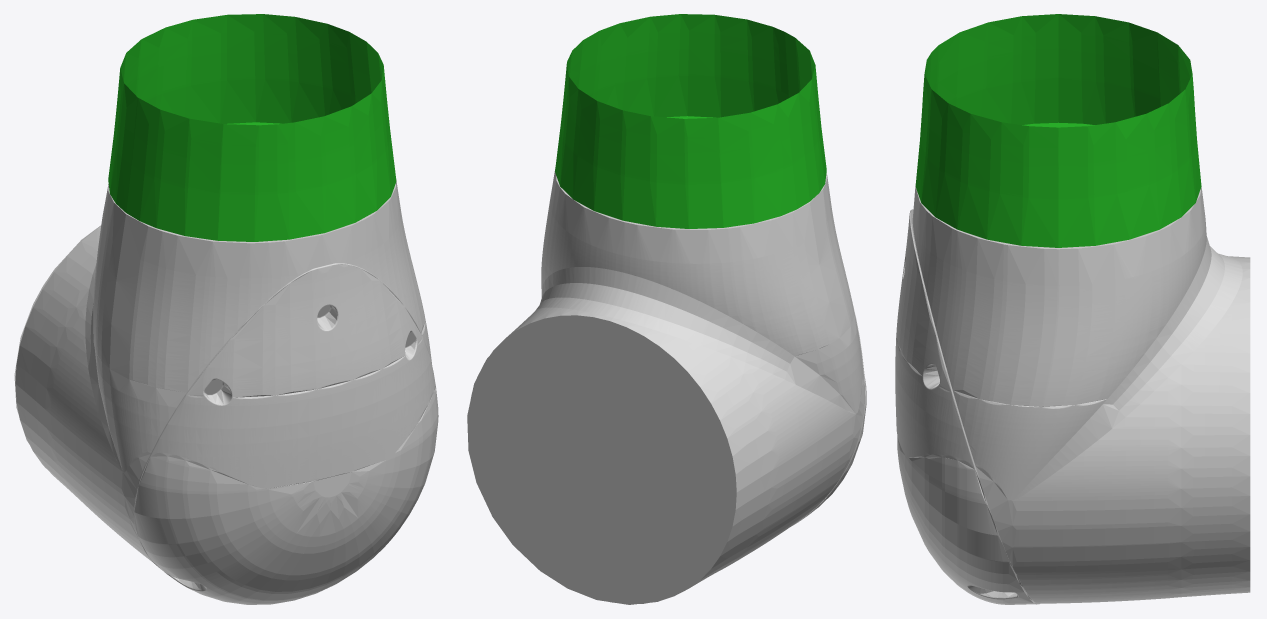
The picture shows the model from 3 angles, left to right: view 1: azimuth 30°, elevation 25°; view 2: azimuth 150°, elevation 25°; view 3: azimuth 270°, elevation 25°; orthographic projection. The views are drawn at different scales.
Parts seen in each view (by area): view 1: node; view 2: node; view 3: node.
Part boxes in pixels (bbox=[...]): node: bbox=[14, 14, 438, 604]; node: bbox=[467, 14, 866, 604]; node: bbox=[895, 14, 1250, 604].
Bounding box in the file's own units: 140 × 223 × 140.
